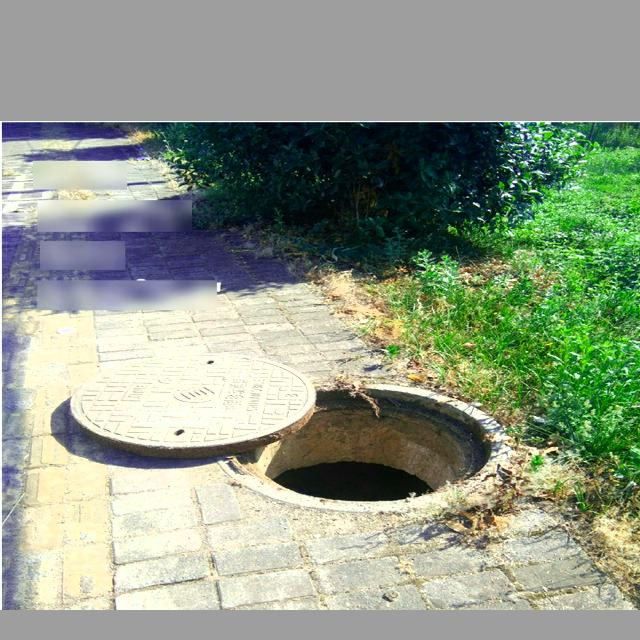uncovered: (69, 353, 505, 512)
